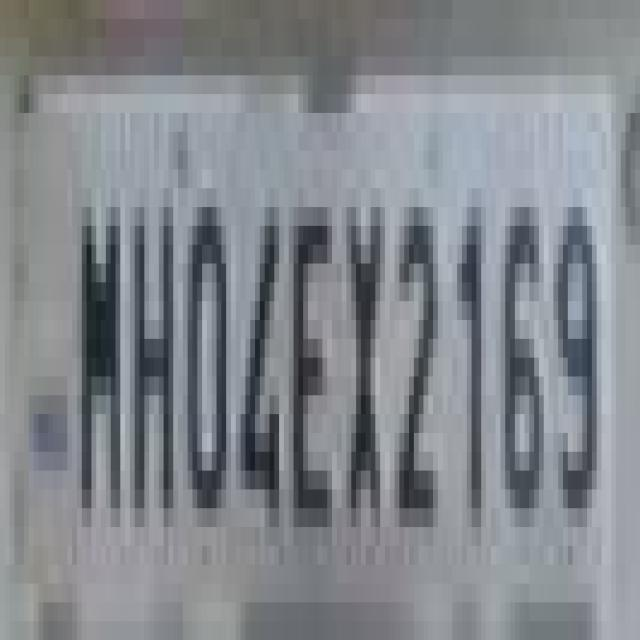license_plate: (5, 38, 597, 621)
